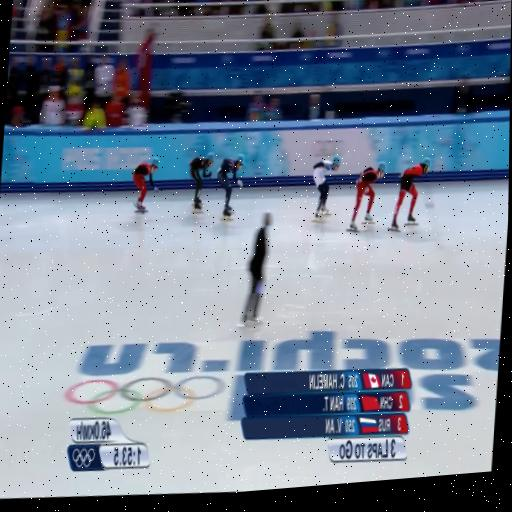Skater: (388, 158, 430, 231), (347, 163, 384, 231), (312, 155, 339, 222), (217, 154, 243, 220), (189, 153, 213, 213), (132, 158, 157, 212)
